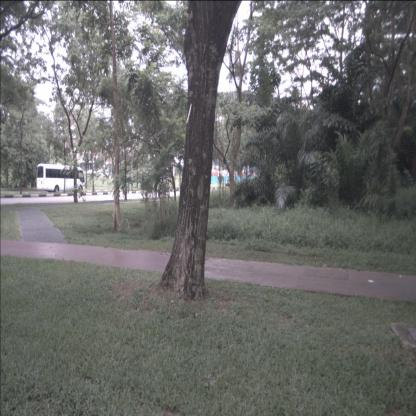human-pedestrian-adult: (140, 176, 144, 200)
vehicle-bus-rigid: (36, 164, 85, 193)
